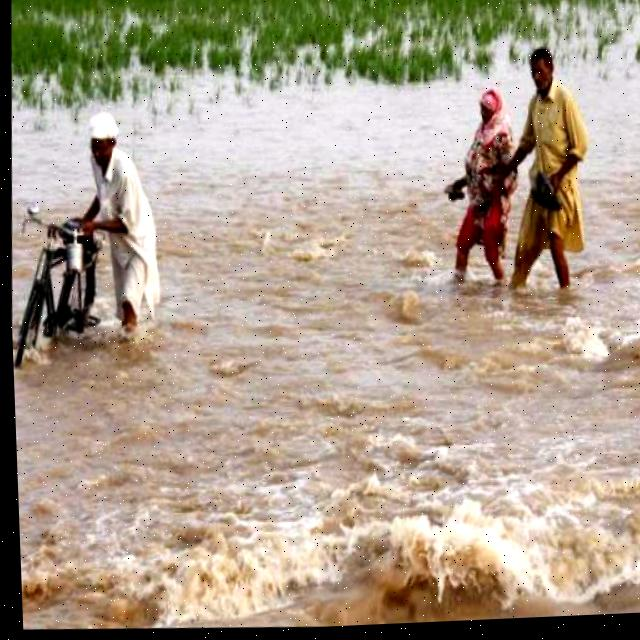civilian: (62, 86, 185, 358), (503, 32, 610, 321), (425, 75, 528, 304)
